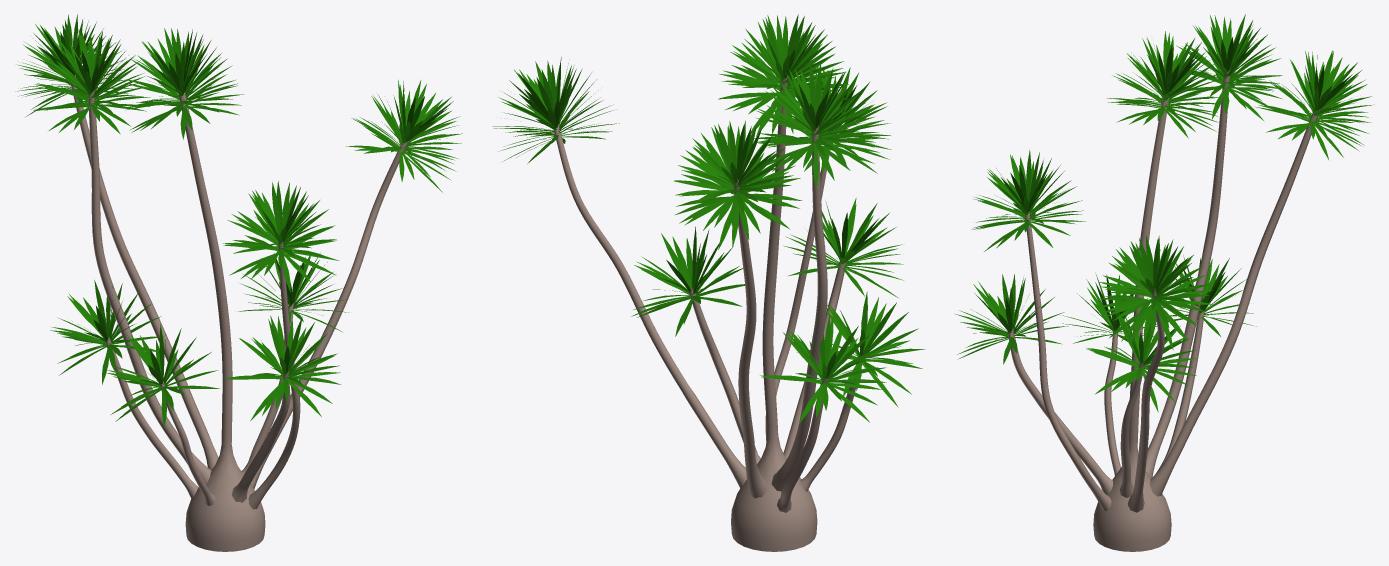
The model's file is tree3.FBX.
3 views of the same model, side by side, from view 1: azimuth 30°, elevation 25°; view 2: azimuth 150°, elevation 25°; view 3: azimuth 270°, elevation 25° (orthographic). The views are drawn at different scales.
Parts seen in each view (by area): view 1: Foliage005; view 2: Foliage005; view 3: Foliage005.
Boxes of the visible parts, <box> form: Foliage005: <box>15,14,462,551</box>; Foliage005: <box>492,14,925,551</box>; Foliage005: <box>954,14,1374,551</box>.
Bounding box in the file's own units: 66.44 × 82.81 × 65.08.
